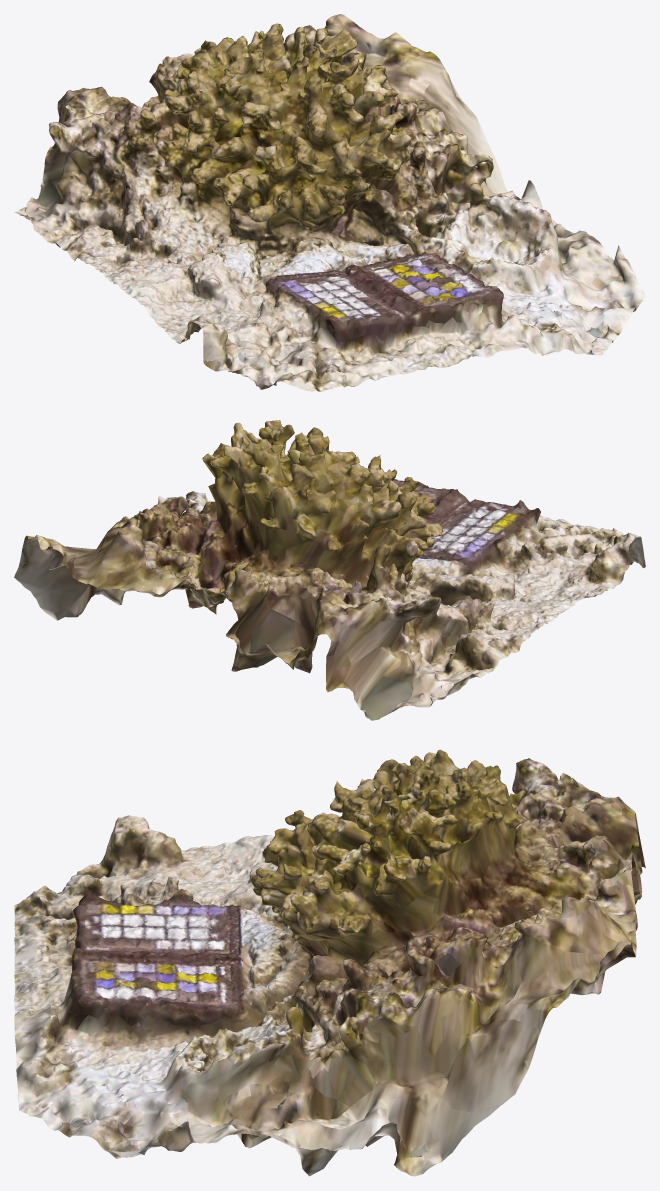
The model's file is pocillopora_verrucosa_colony.glb.
3 renders of one model, top to bottom at view 1: azimuth 30°, elevation 25°; view 2: azimuth 150°, elevation 25°; view 3: azimuth 270°, elevation 25°, orthographic. The views are drawn at different scales.
Bounding box in the file's own units: 9.13 × 4.63 × 9.59.
Materials: 5 (5 with a texture image).
